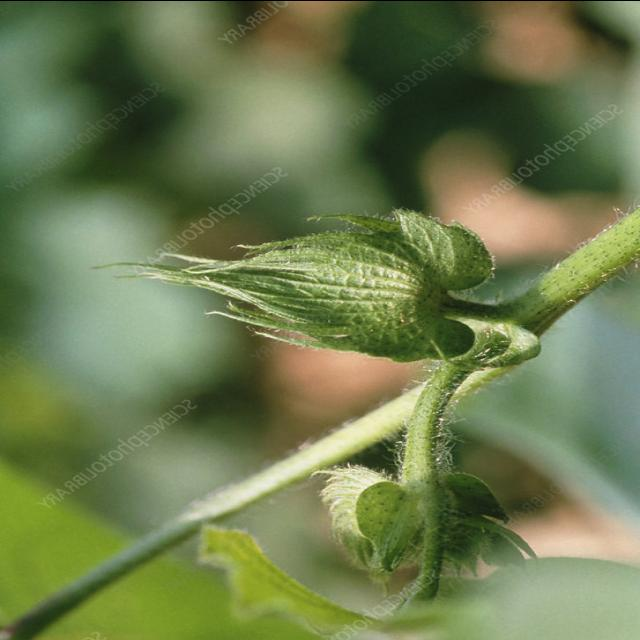Cotton Bud: (180, 204, 499, 366)
